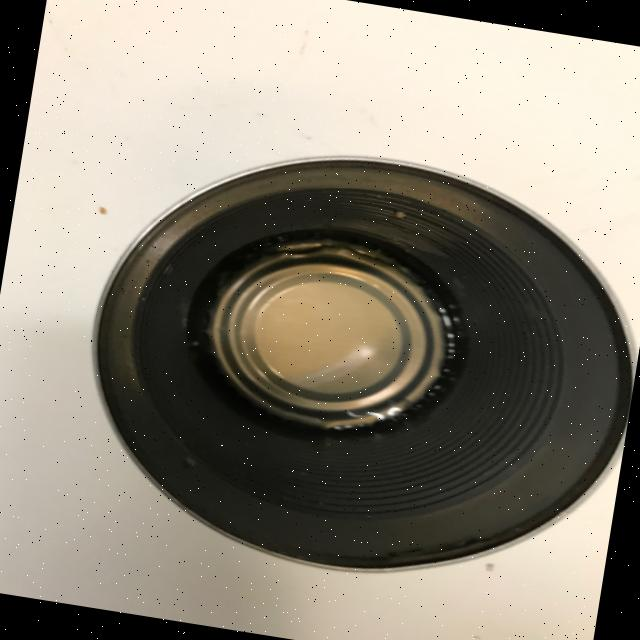metal: (61, 116, 640, 612)
